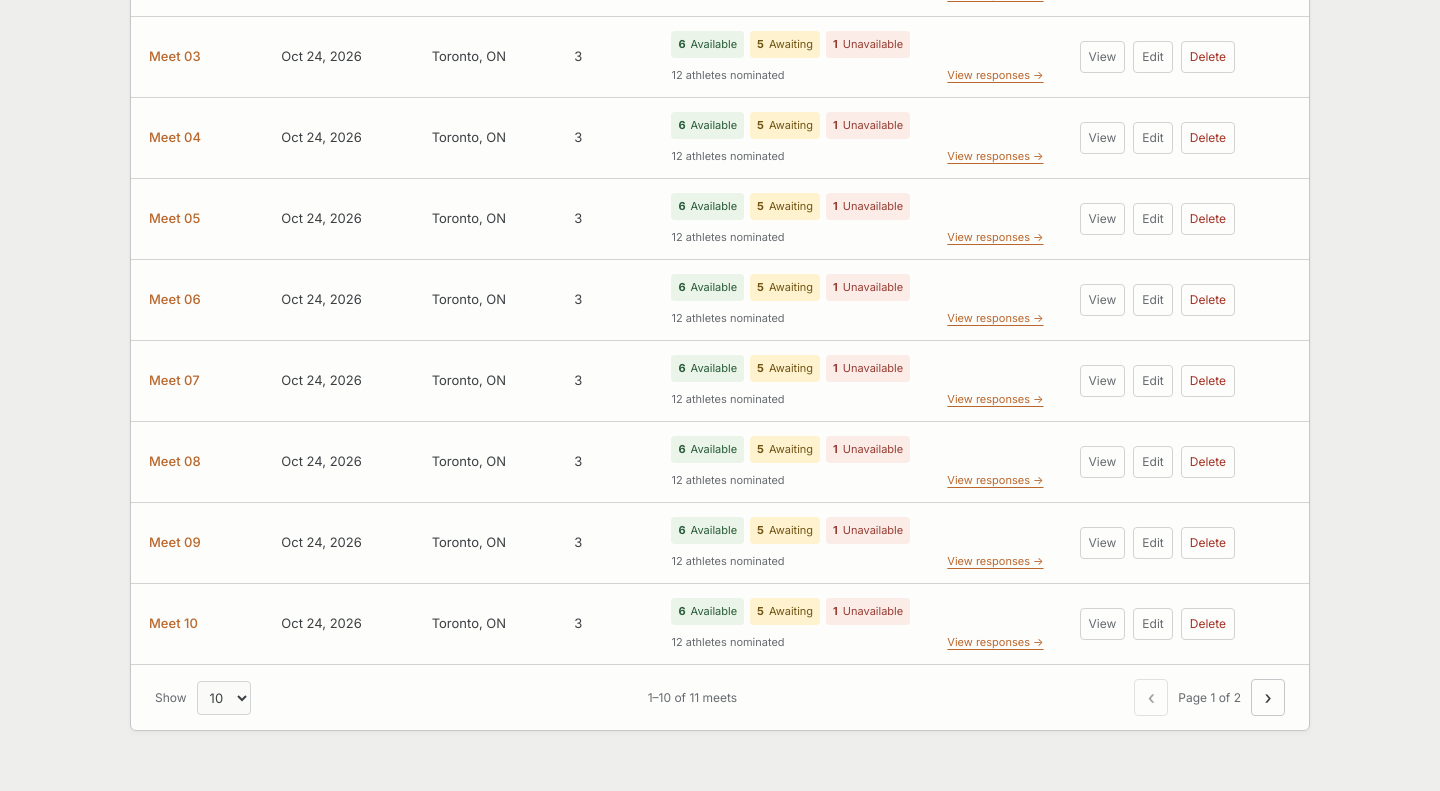
Scenario: Meets List › requires deletion confirmation, supports cancel, and clamps the last page
This screenshot has width=1440, height=791.
(page scrolled)
Click the button named "Next page" at (1268, 698), box top-left (1251, 679), bottom-right (1285, 716)
(page scrolled)
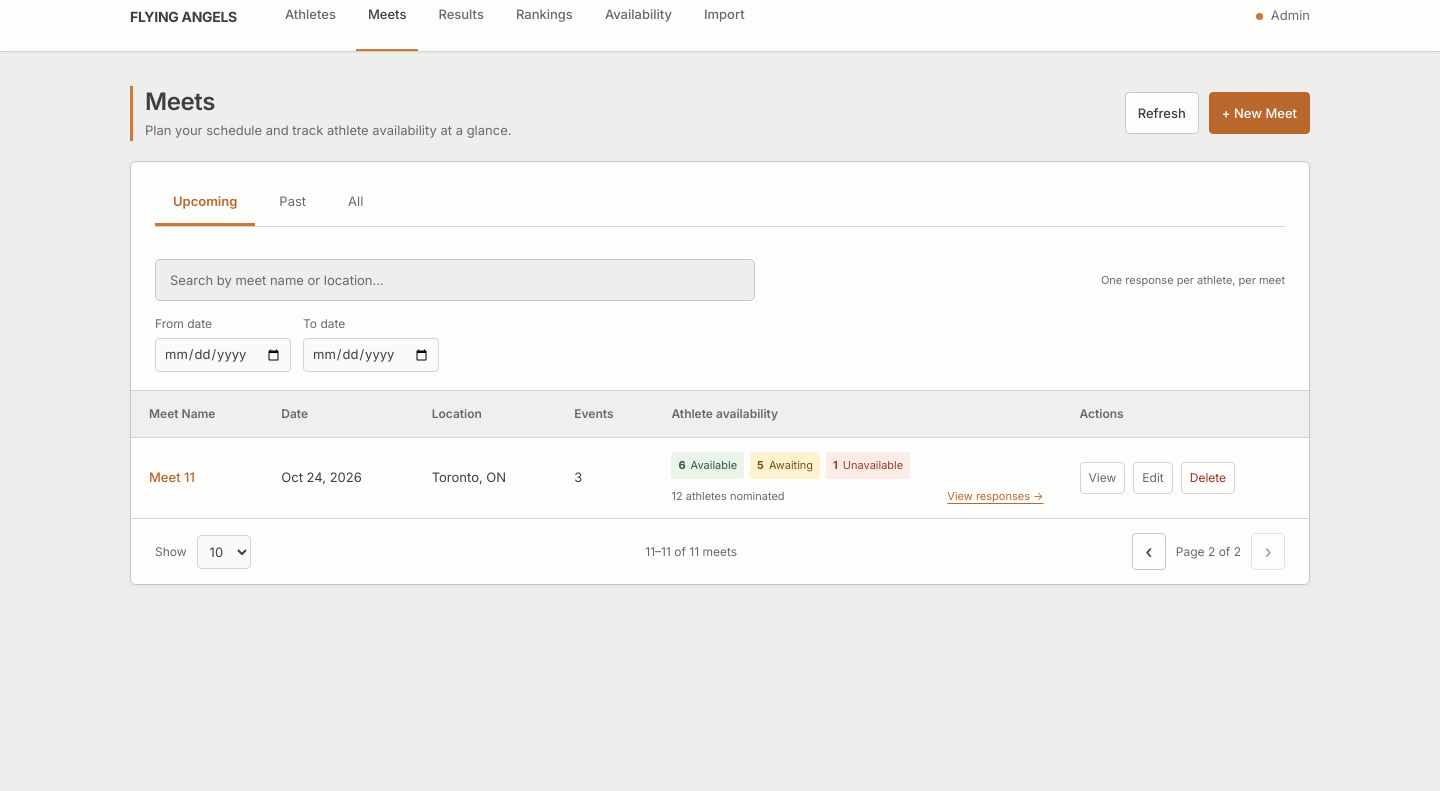
Click the button with aria-label "Delete Meet 11" at (1208, 478), box top-left (1181, 462), bottom-right (1235, 494)
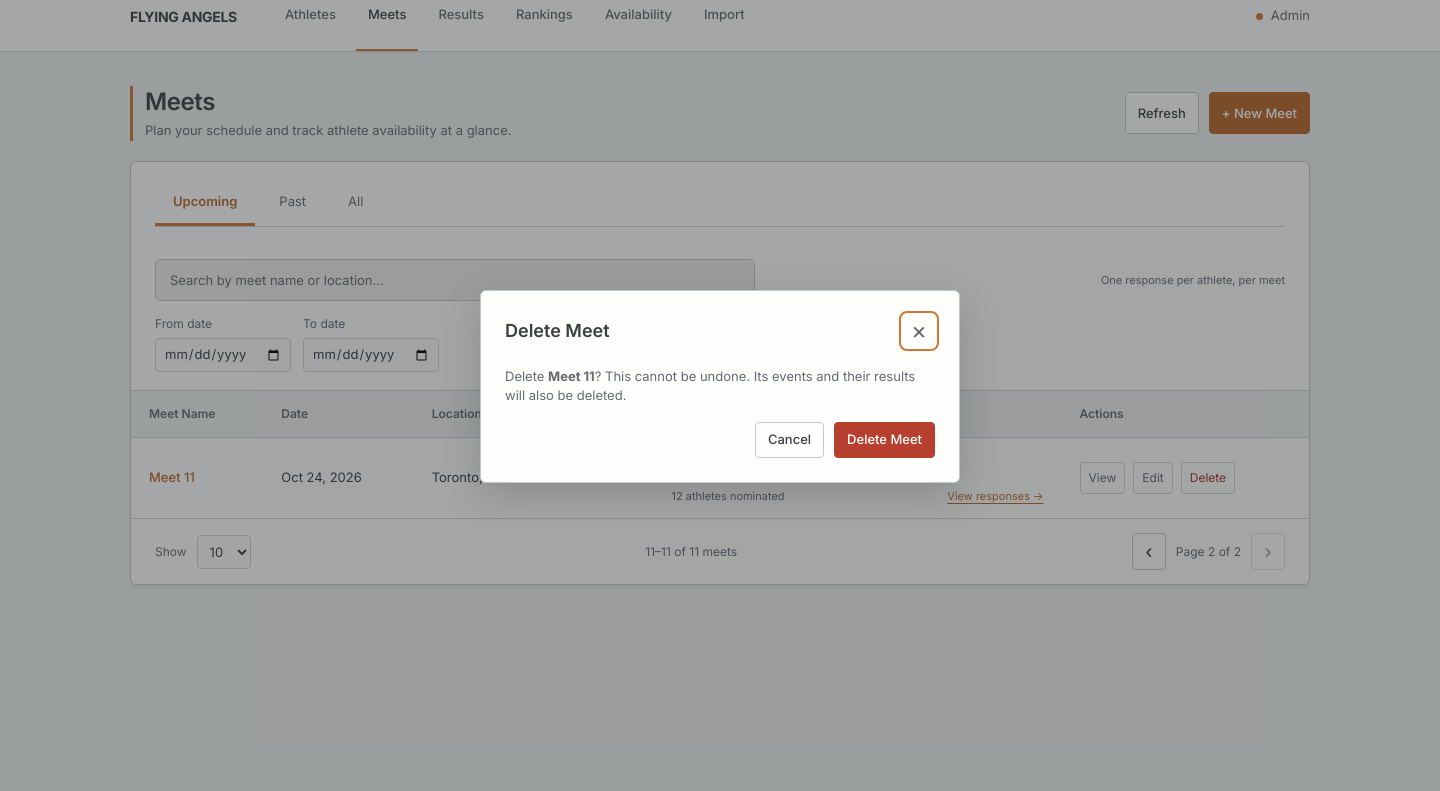
Click the button "Cancel" at (790, 440), box top-left (755, 422), bottom-right (824, 458)
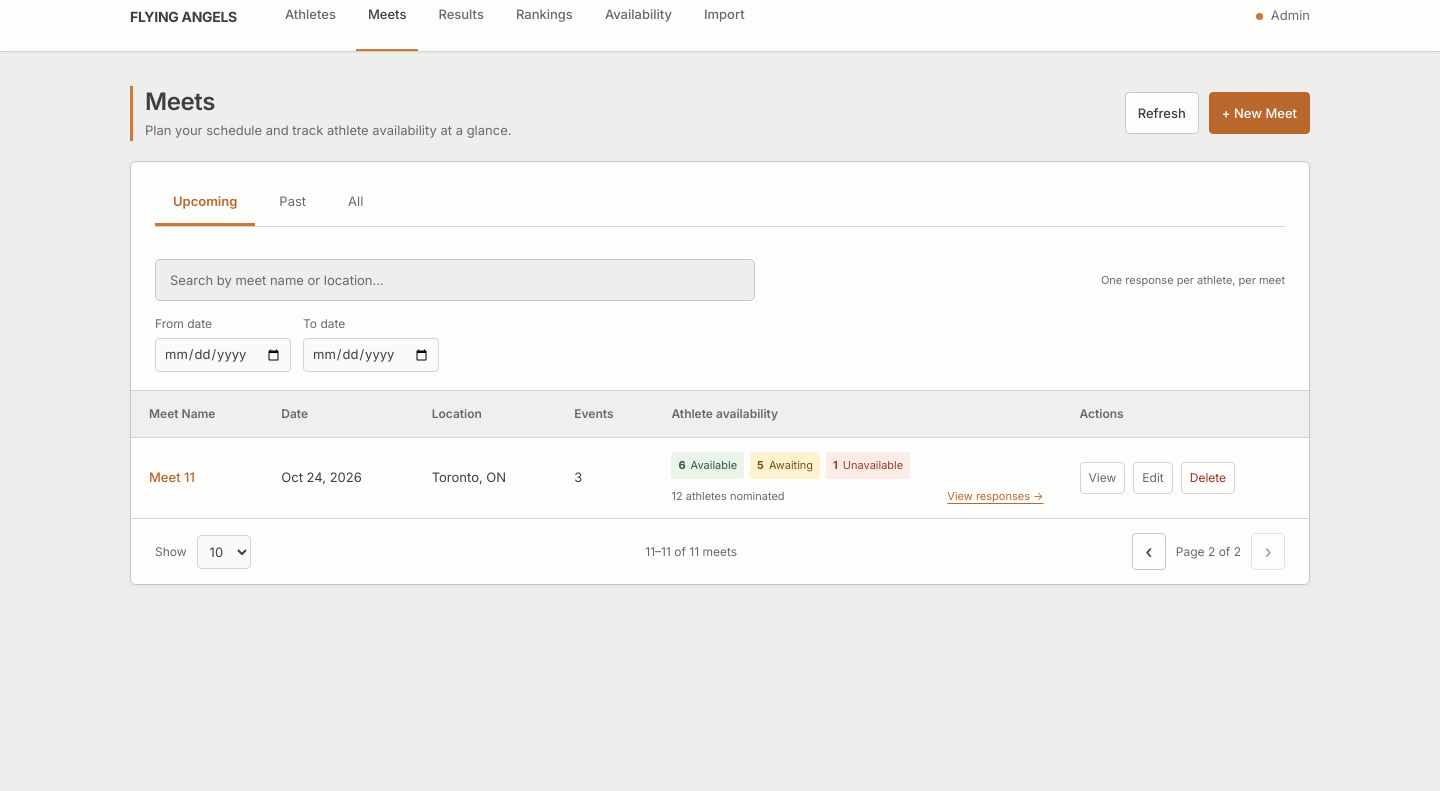
Expected: the dialog is gone
Click the button with aria-label "Delete Meet 11" at (1208, 478), box top-left (1181, 462), bottom-right (1235, 494)
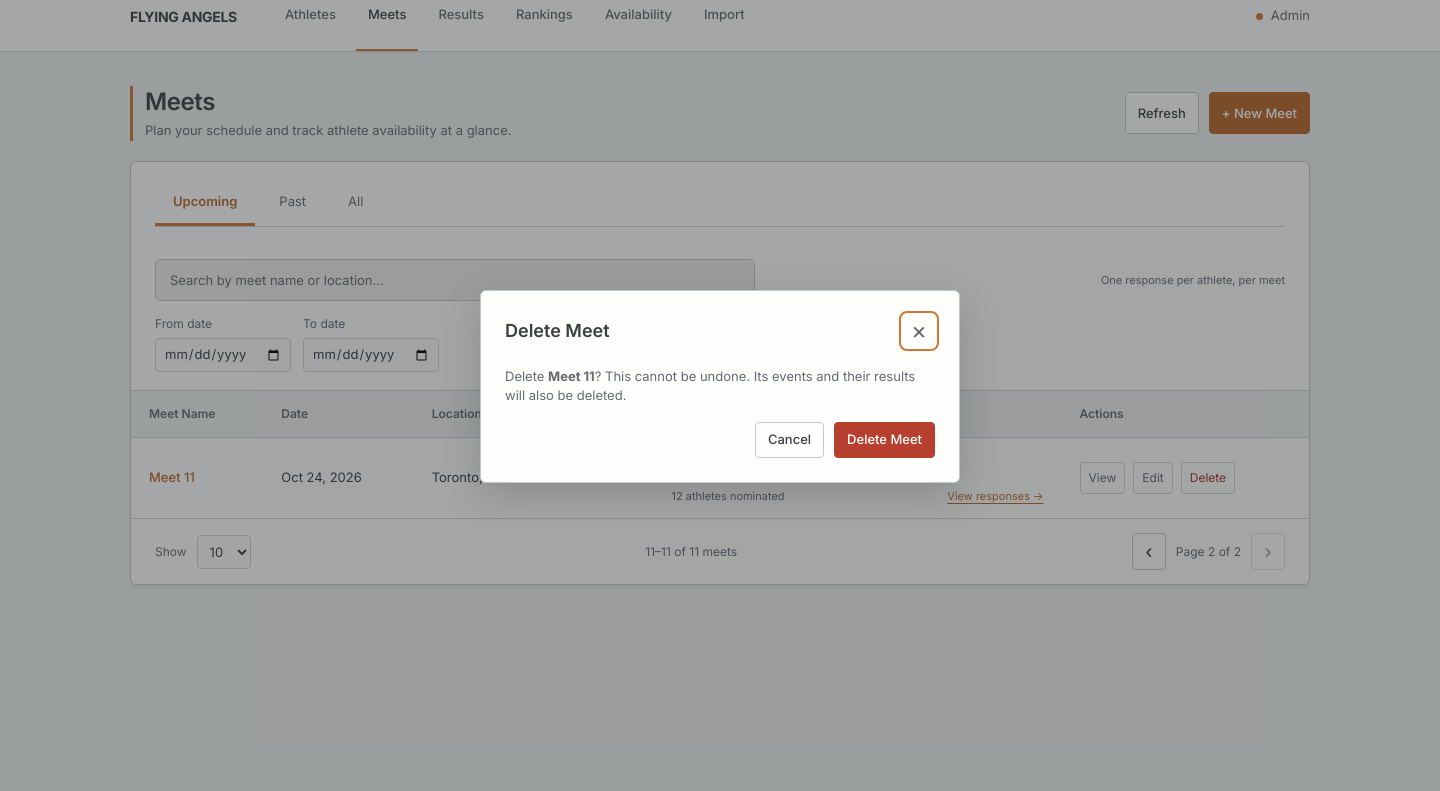
Click the button "Delete Meet" at (885, 440), box top-left (834, 422), bottom-right (935, 458)
(page scrolled)
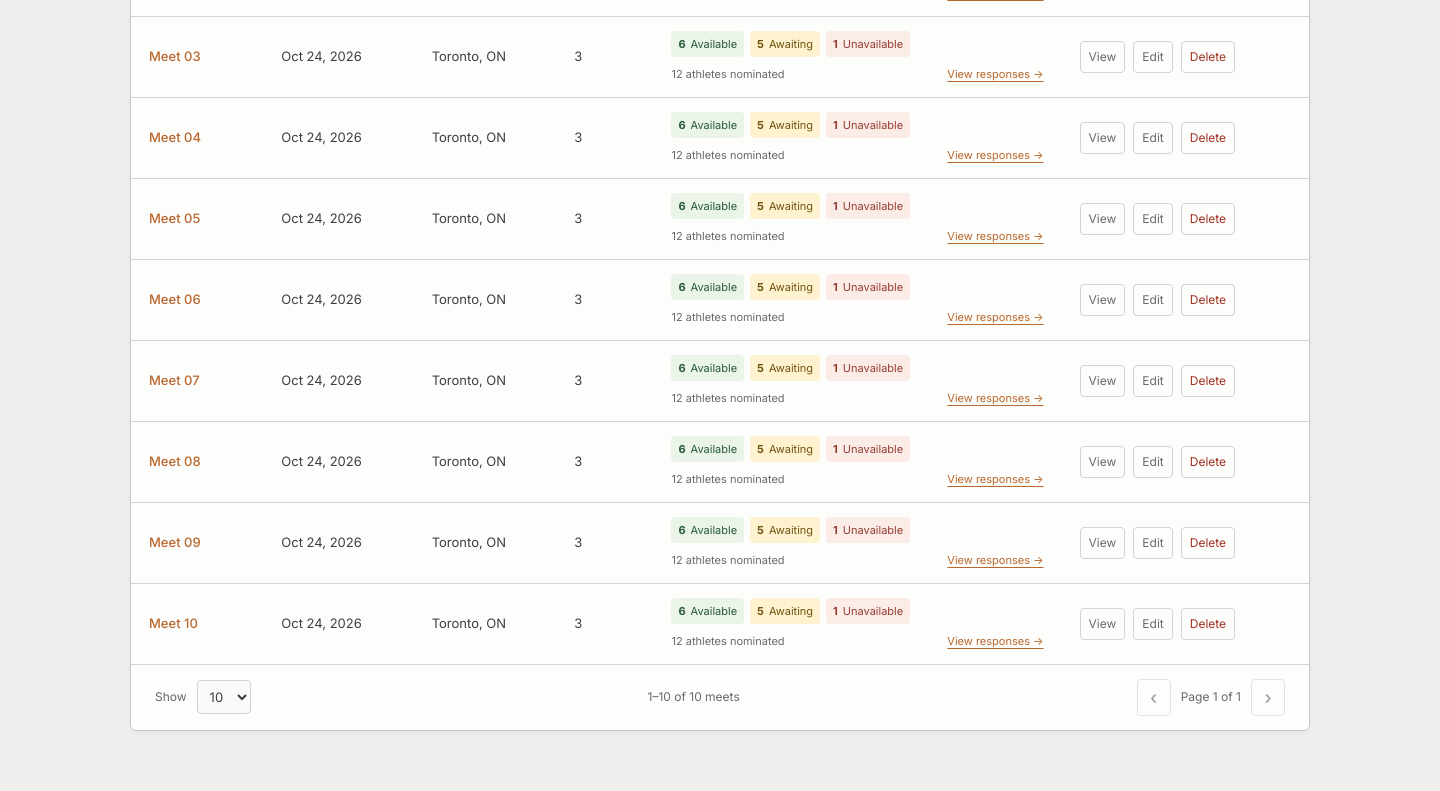
Expected: the dialog is gone
Expected: the text "Page 1 of 1" is shown, top-left (1181, 688), bottom-right (1241, 706)
